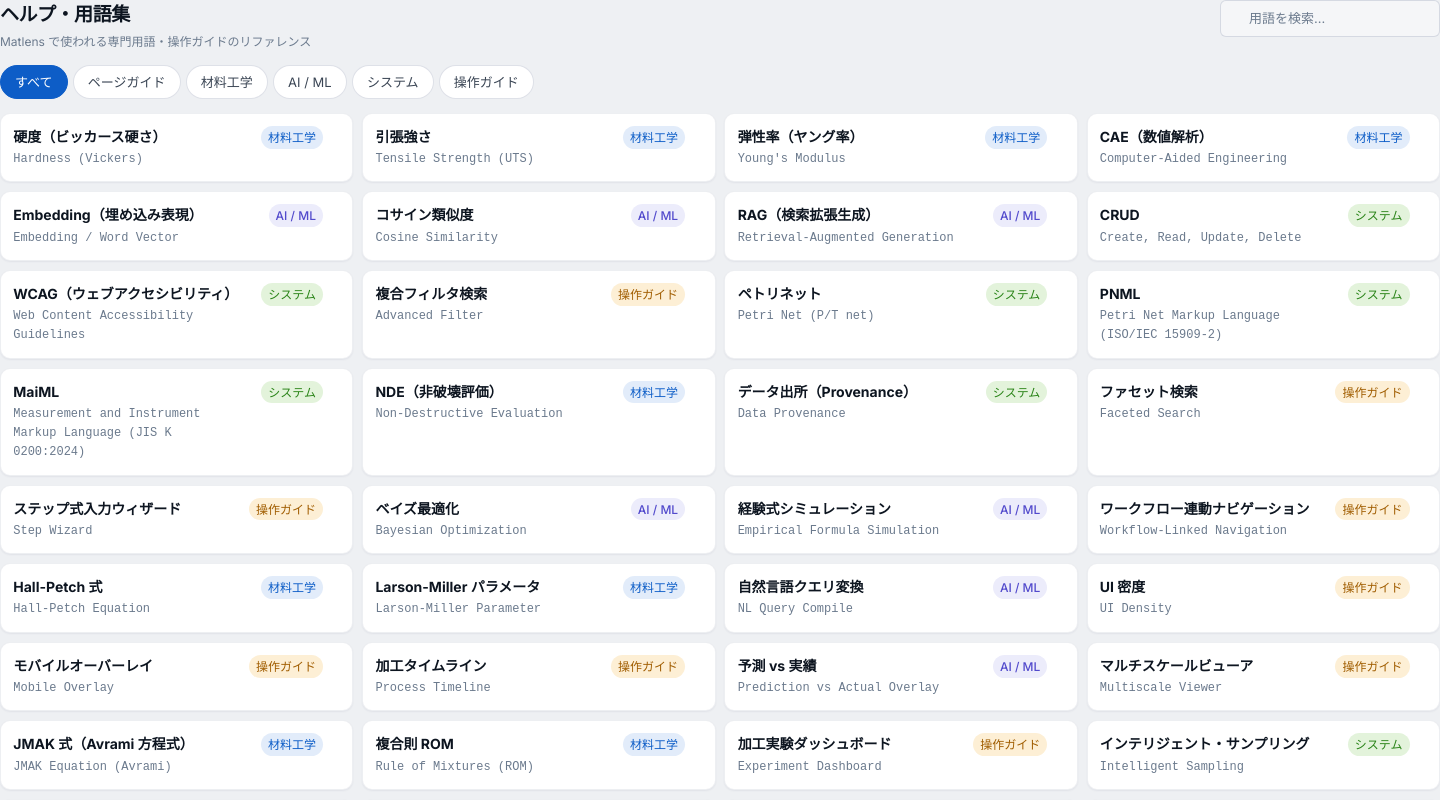
Test: HelpPage › renders "詳しく学ぶ" section after expanding a guide with learnMore links
Click the tab "ページガイド": {"x": 127, "y": 82} [73,65,181,99]
(page scrolled)
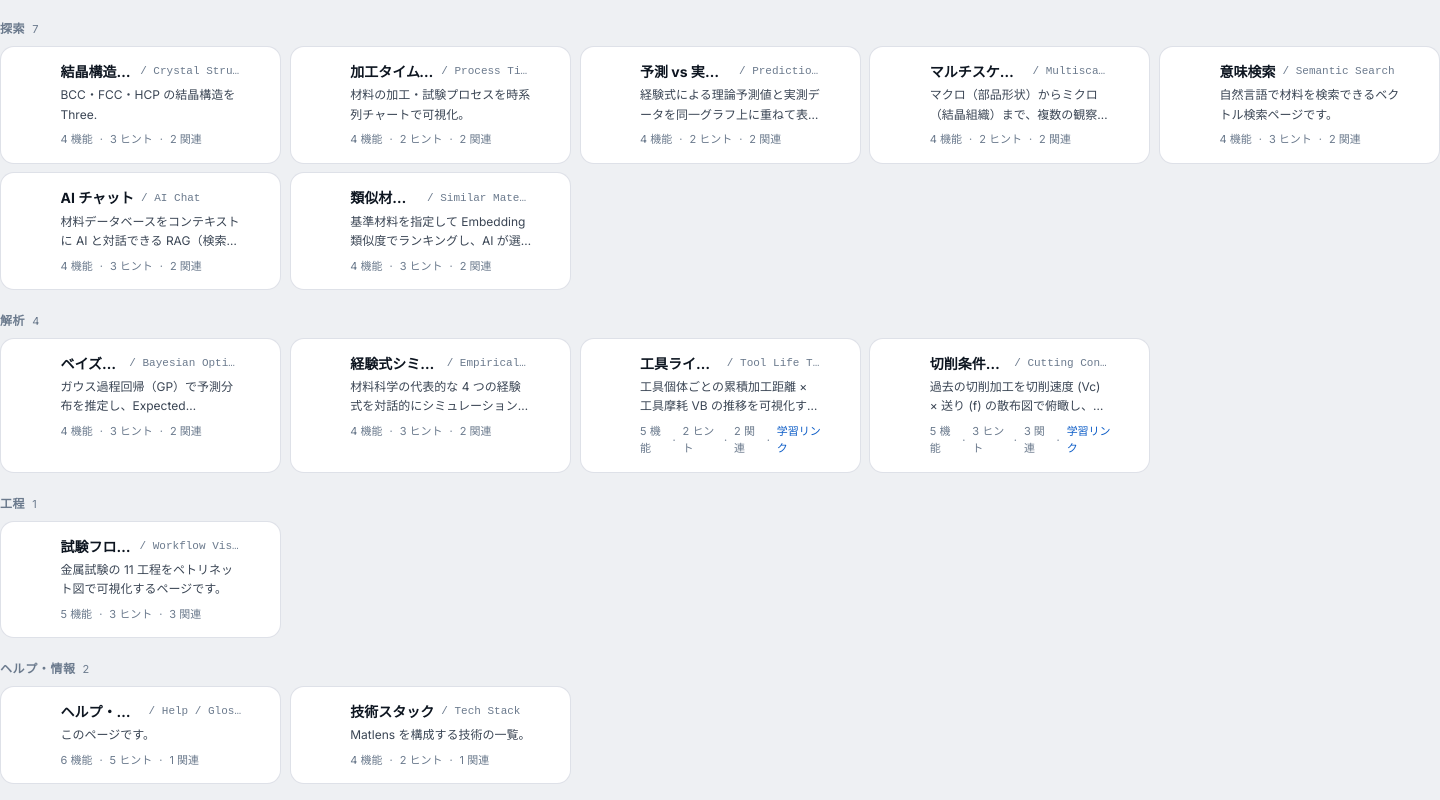
Expected: the button that starts with "切削条件エクスプローラ" is shown
Click the button that starts with "切削条件エクスプローラ": {"x": 1010, "y": 405} [870,339,1149,472]
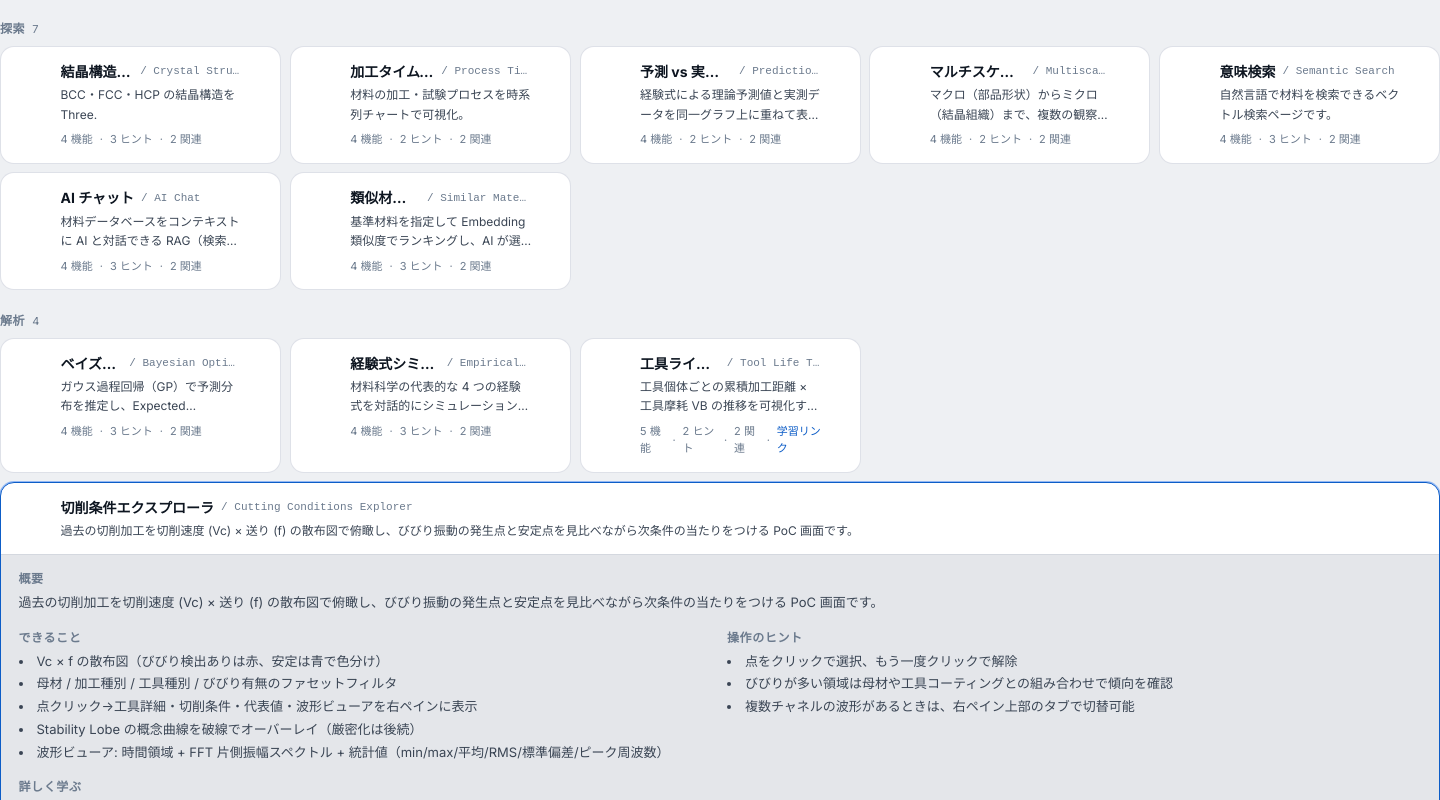
Expected: the text "詳しく学ぶ" is shown, [18,779,82,794]
